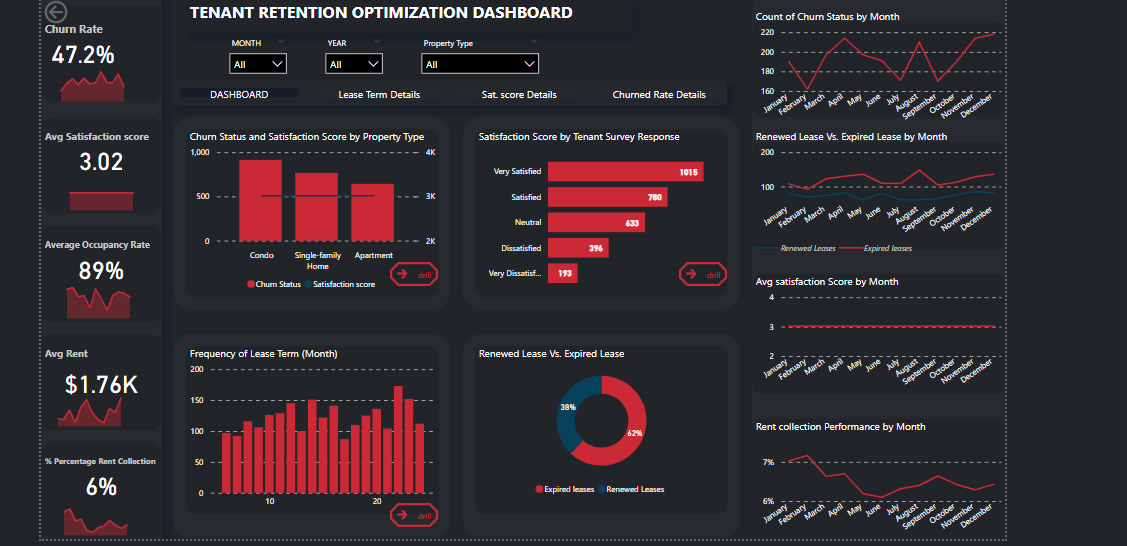

The page's visual inventory and layout, read from the dashboard file:
{"tool":"powerbi","page":{"name":"DASHBOARD ","canvas":[1280,720],"ordinal":0},"visuals":[{"type":"shape","box":[192,160,336,240],"z":0},{"type":"shape","box":[944,176,336,128],"z":1000},{"type":"shape","box":[944,0,336,720],"z":2000},{"type":"shape","box":[0,0,160,720],"z":3000},{"type":"shape","box":[176,160,368,256],"z":4000},{"type":"textbox","box":[192,0,592,48],"z":5000},{"type":"pageNavigator","box":[176,112,736,32],"z":6000},{"type":"shape","box":[1.5,10.2,160,128],"z":7000},{"type":"shape","box":[0,160,160,128],"z":8000},{"type":"shape","box":[0,304,160,128],"z":9000},{"type":"shape","box":[0,448,160,128],"z":10000},{"type":"shape","box":[0,592,160,128],"z":11000},{"type":"card","title":"Churn Rate","fields":{"Values":["MEASURES TABLE.Churn Rate"]},"box":[0,32,112,64],"z":12000},{"type":"card","title":"Avg Satisfaction score","fields":{"Values":["MEASURES TABLE.Average tenant satisfaction score"]},"box":[0,176,160,64],"z":13000},{"type":"card","title":"Average Occupancy Rate","fields":{"Values":["Avg(property_information.Historical Occupancy Rate decimal)"]},"box":[0,320,160,64],"z":14000},{"type":"card","title":"Avg Rent","fields":{"Values":["Avg(FULL DATA.Rent Amount (USD))"]},"box":[0,464,160,80],"z":15000},{"type":"card","title":"% Percentage Rent Collection","fields":{"Values":["MEASURES TABLE.Rent collection Performance"]},"box":[0,608,160,64],"z":16000},{"type":"areaChart","fields":{"Y":["MEASURES TABLE.Churn Rate"],"Category":["start date.MONTH"]},"box":[4,80,144,64],"z":17000},{"type":"areaChart","fields":{"Y":["MEASURES TABLE.Average satisfaction score"],"Category":["start date.MONTH","tenant_information  and feedback.Survey Response"]},"box":[16,224,144,64],"z":18000},{"type":"areaChart","fields":{"Category":["start date.MONTH"],"Y":["MEASURES TABLE.current occupancy rate"]},"box":[12,368,144,64],"z":19000},{"type":"areaChart","fields":{"Y":["Avg(FULL DATA.Rent Amount (USD))"],"Category":["start date.MONTH"]},"box":[0,512,144,64],"z":20000},{"type":"areaChart","fields":{"Y":["MEASURES TABLE.Rent collection Performance"],"Category":["start date.MONTH"]},"box":[8,656,144,64],"z":21000},{"type":"shape","box":[560,160,368,256],"z":22000},{"type":"shape","box":[176,448,368,272],"z":23000},{"type":"shape","box":[560,448,368,272],"z":24000},{"type":"shape","box":[944,32,336,128],"z":25000},{"type":"lineChart","title":"Count of Churn Status by Month","fields":{"Y":["CountNonNull(FULL DATA.Churn Status)"],"Category":["start date.MONTHNAME"]},"box":[944,16,336,160],"z":26000},{"type":"shape","box":[944,192,336,144],"z":27000},{"type":"shape","box":[944,368,336,160],"z":28000},{"type":"shape","box":[944,560,336,160],"z":29000},{"type":"lineChart","title":"Renewed Lease Vs. Expired Lease by Month","fields":{"Category":["start date.MONTHNAME"],"Y":["MEASURES TABLE.Active Leases","MEASURES TABLE.Churned leases"]},"box":[944,176,336,176],"z":30000},{"type":"lineChart","title":"Avg satisfaction Score by Month","fields":{"Y":["Avg(tenant_information  and feedback.satisfaction score)"],"Category":["start date.MONTHNAME"]},"box":[944,368,336,160],"z":31000},{"type":"lineChart","title":"Rent collection Performance by Month","fields":{"Y":["MEASURES TABLE.Rent collection Performance"],"Category":["start date.MONTHNAME"]},"box":[944,560,336,160],"z":32000},{"type":"shape","box":[192,176,336,224],"z":33000},{"type":"lineStackedColumnComboChart","title":"Churn Status and Satisfaction Score by Property Type","fields":{"Y":["CountNonNull(FULL DATA.Churn Status)"],"Category":["property_information.Property Type"],"Y2":["Sum(tenant_information  and feedback.satisfaction score)"]},"box":[192,176,336,224],"z":34000},{"type":"shape","box":[192,464,336,224],"z":35000},{"type":"columnChart","title":"Frequency of Lease Term (Month)","fields":{"Y":["CountNonNull(FULL DATA.Lease ID)"],"Category":["FULL DATA.Lease Term (Months)"]},"box":[192,464,336,224],"z":36000},{"type":"shape","box":[576,464,336,224],"z":37000},{"type":"donutChart","title":"Renewed Lease Vs. Expired Lease","fields":{"Y":["MEASURES TABLE.Churned leases","MEASURES TABLE.Active Leases"]},"box":[576,464,336,208],"z":38000},{"type":"shape","box":[576,176,336,224],"z":39000},{"type":"clusteredBarChart","title":"Satisfaction Score by Tenant Survey Response","fields":{"Category":["tenant_information  and feedback.Survey Response"],"Y":["Sum(tenant_information  and feedback.satisfaction score)"]},"box":[576,176,336,224],"z":40000},{"type":"actionButton","box":[464,672,64,32],"z":41000},{"type":"actionButton","box":[464,352,64,32],"z":42000},{"type":"actionButton","box":[848,352,64,32],"z":43000},{"type":"slicer","title":"Count of Churn Status by Month","fields":{"Values":["start date.MONTHNAME"]},"box":[240,48,96,64],"z":44000},{"type":"slicer","title":"Count of Churn Status by Month","fields":{"Values":["start date.YEAR"]},"box":[368,48,96,64],"z":45000},{"type":"slicer","title":"Count of Churn Status by Month","fields":{"Values":["property_information.Property Type"]},"box":[496,48,176,64],"z":46000},{"type":"actionButton","box":[0,0,100,40],"z":47000}]}

Visuals, with their boxes on the page's 1280x720 design canvas (x1, y1, x2, y2). These are canvas units, not pixel positions in the 1127x546 screenshot, which may show the page scaled, cropped or inside an application window:
shape: 192,160,528,400
shape: 944,176,1280,304
shape: 944,0,1280,720
shape: 0,0,160,720
shape: 176,160,544,416
textbox: 192,0,784,48
pageNavigator: 176,112,912,144
shape: 2,10,162,138
shape: 0,160,160,288
shape: 0,304,160,432
shape: 0,448,160,576
shape: 0,592,160,720
"Churn Rate" card: 0,32,112,96
"Avg Satisfaction score" card: 0,176,160,240
"Average Occupancy Rate" card: 0,320,160,384
"Avg Rent" card: 0,464,160,544
"% Percentage Rent Collection" card: 0,608,160,672
areaChart - MEASURES TABLE.Churn Rate x start date.MONTH: 4,80,148,144
areaChart - MEASURES TABLE.Average satisfaction score x start date.MONTH: 16,224,160,288
areaChart - start date.MONTH x MEASURES TABLE.current occupancy rate: 12,368,156,432
areaChart - Avg(FULL DATA.Rent Amount (USD)) x start date.MONTH: 0,512,144,576
areaChart - MEASURES TABLE.Rent collection Performance x start date.MONTH: 8,656,152,720
shape: 560,160,928,416
shape: 176,448,544,720
shape: 560,448,928,720
shape: 944,32,1280,160
"Count of Churn Status by Month" lineChart: 944,16,1280,176
shape: 944,192,1280,336
shape: 944,368,1280,528
shape: 944,560,1280,720
"Renewed Lease Vs. Expired Lease by Month" lineChart: 944,176,1280,352
"Avg satisfaction Score by Month" lineChart: 944,368,1280,528
"Rent collection Performance by Month" lineChart: 944,560,1280,720
shape: 192,176,528,400
"Churn Status and Satisfaction Score by Property Type" lineStackedColumnComboChart: 192,176,528,400
shape: 192,464,528,688
"Frequency of Lease Term (Month)" columnChart: 192,464,528,688
shape: 576,464,912,688
"Renewed Lease Vs. Expired Lease" donutChart: 576,464,912,672
shape: 576,176,912,400
"Satisfaction Score by Tenant Survey Response" clusteredBarChart: 576,176,912,400
actionButton: 464,672,528,704
actionButton: 464,352,528,384
actionButton: 848,352,912,384
"Count of Churn Status by Month" slicer: 240,48,336,112
"Count of Churn Status by Month" slicer: 368,48,464,112
"Count of Churn Status by Month" slicer: 496,48,672,112
actionButton: 0,0,100,40
